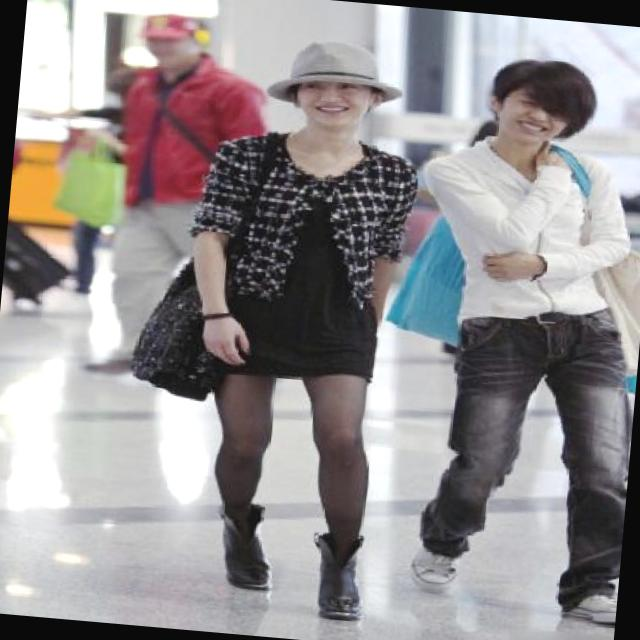Person: (129, 21, 432, 640), (361, 15, 640, 640)
